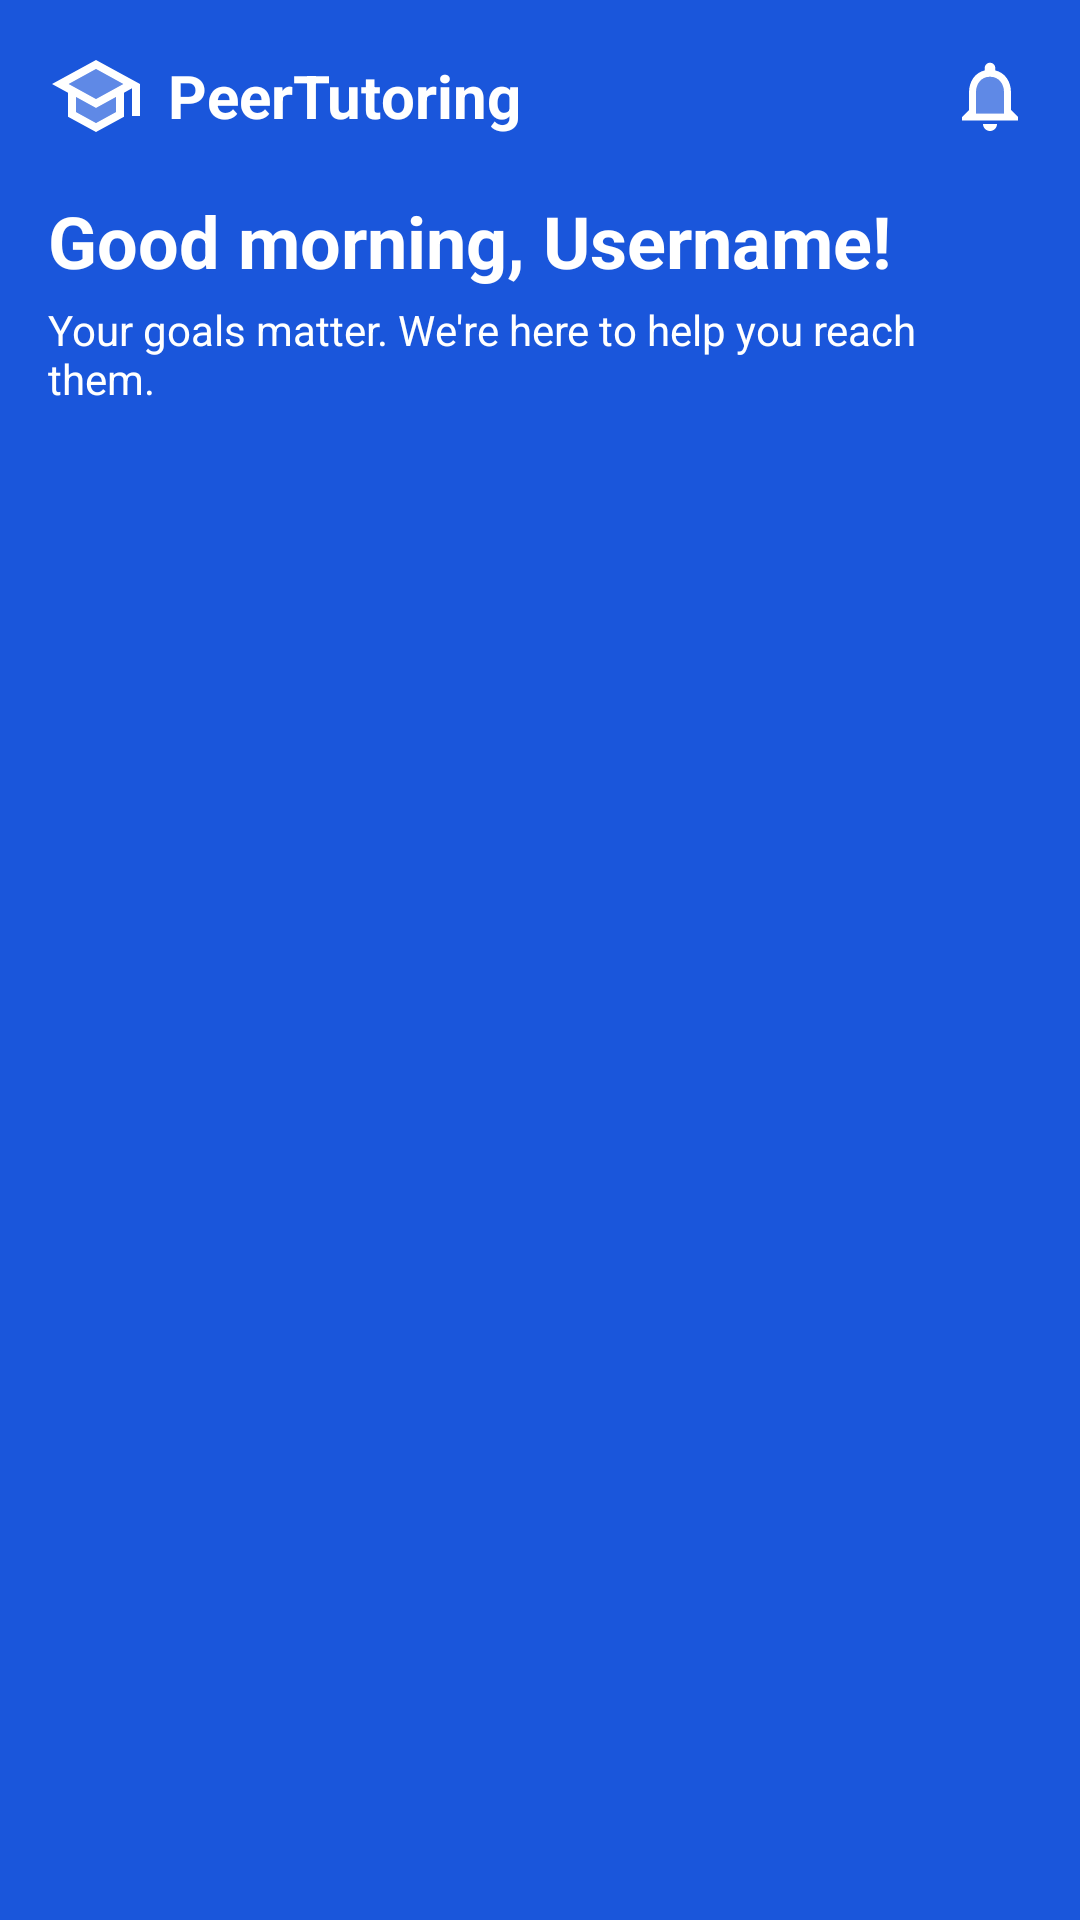

Where icons sit on this 1080w x 1920h app screen, as (x1, y1, x2, y2):
notifications: (962, 62, 1018, 131)
school hat: (52, 60, 140, 132)
